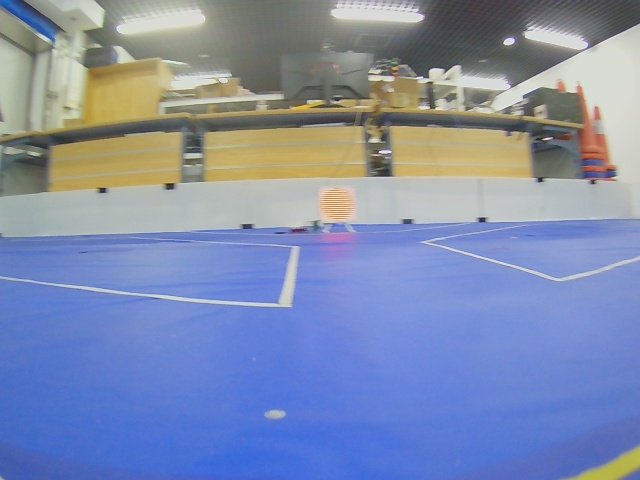red: (319, 187, 356, 224)
